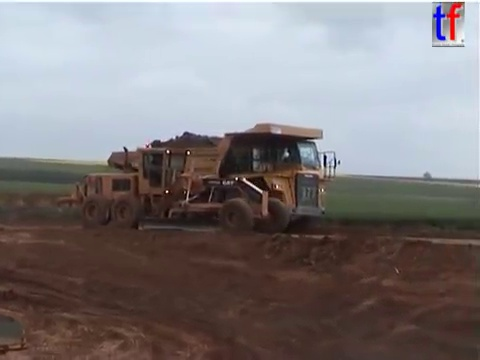motor grader: (55, 144, 292, 235)
truck: (105, 121, 342, 235), (1, 312, 29, 356)
